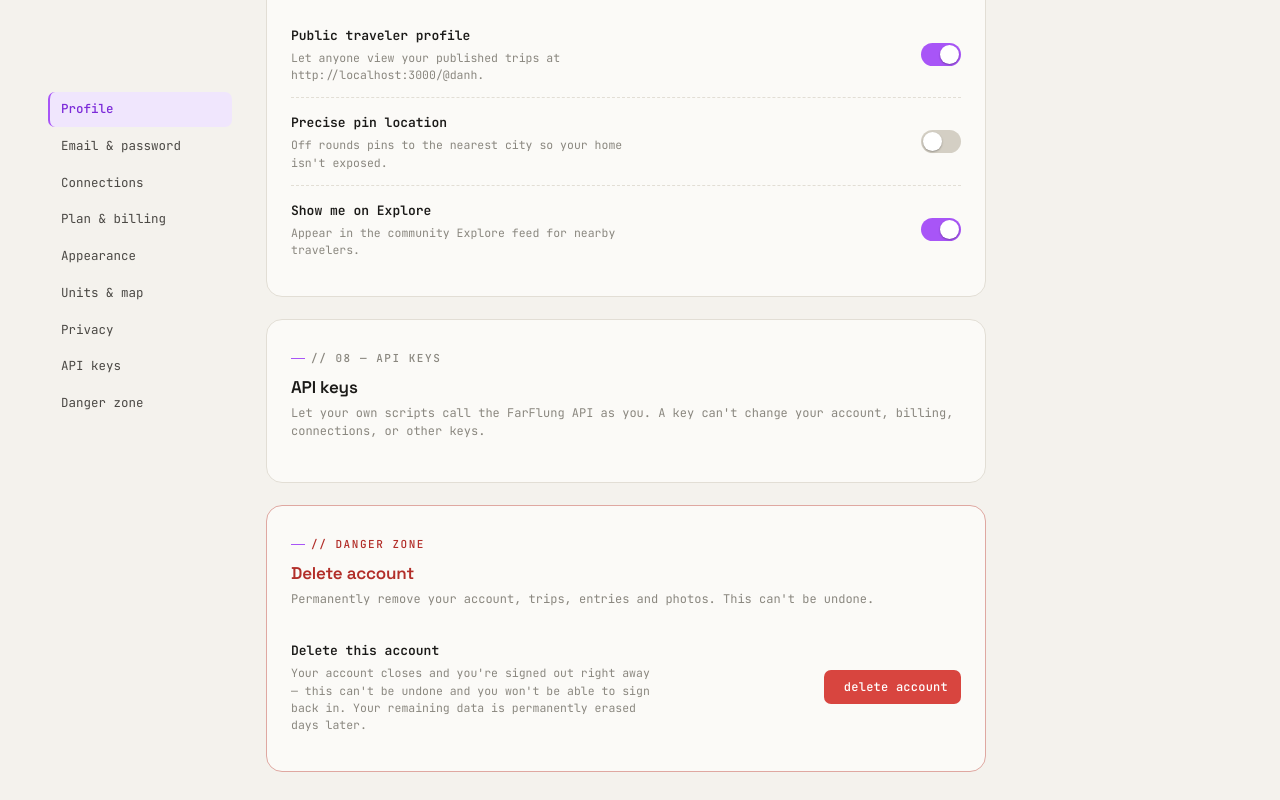
Test: Settings page (/settings) › does not promise a change-of-mind window in the delete confirmation modal
(page scrolled)
Click the button "delete account" at point(893, 687), box 824,670 -> 961,704
(page scrolled)
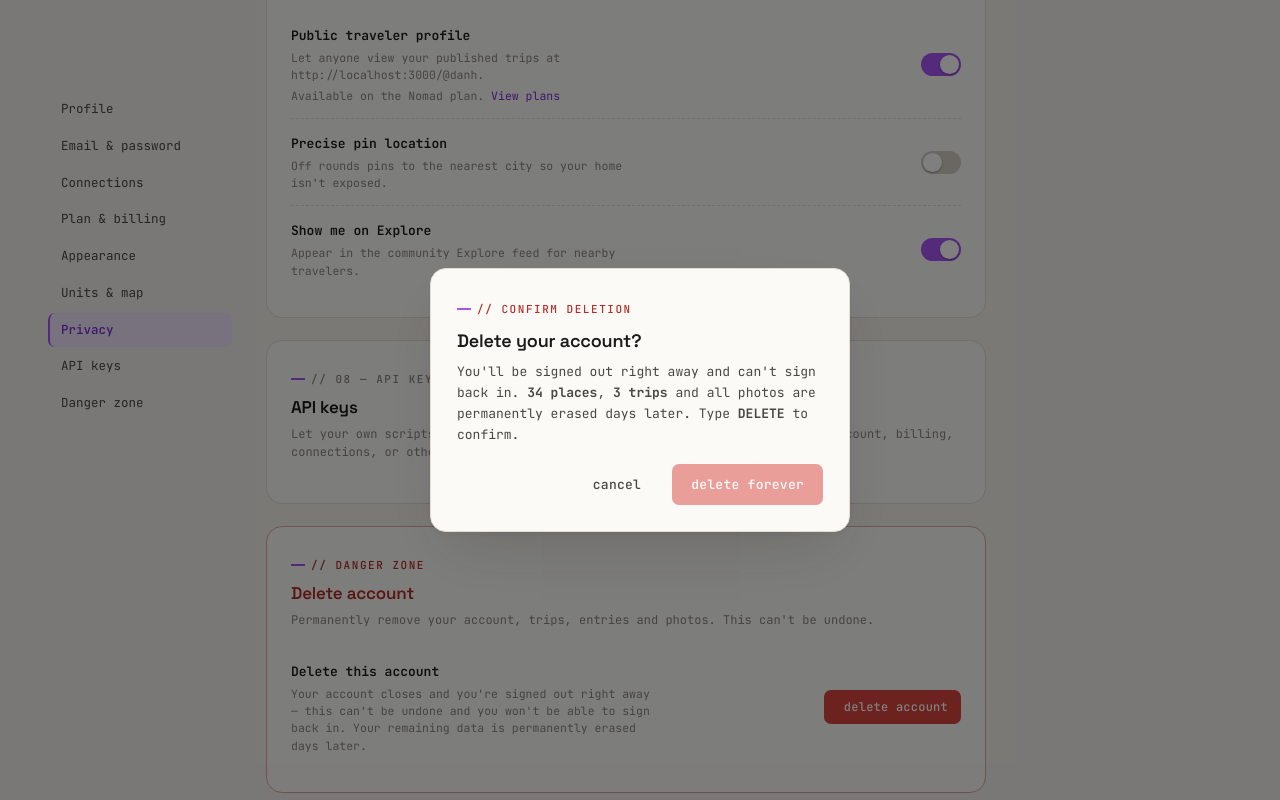
Check: the text "right away" is shown, box 457,363 -> 816,401
Check: the text "days later" is shown, box 605,405 -> 738,422
